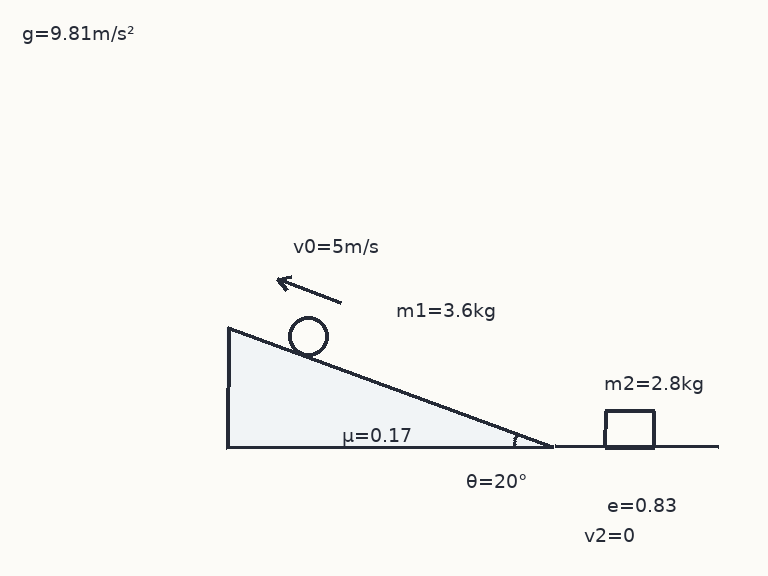ball: (286, 314, 330, 358)
block: (603, 409, 655, 449)
ramp: (225, 326, 556, 449)
